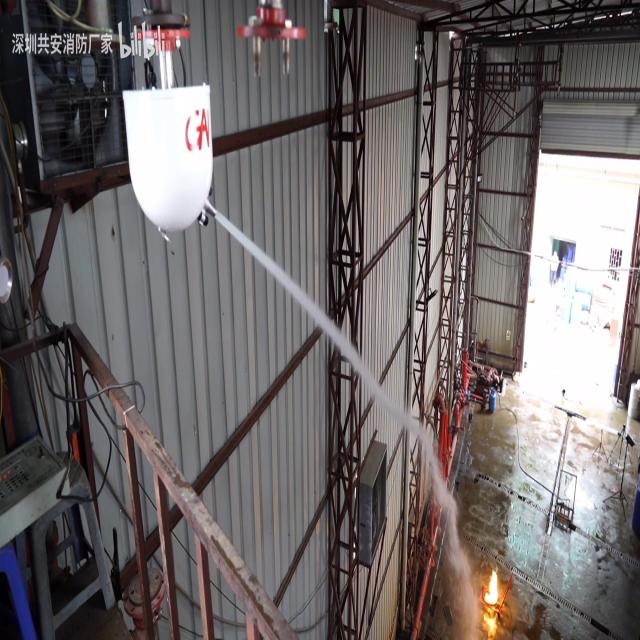leak: (212, 208, 483, 640)
